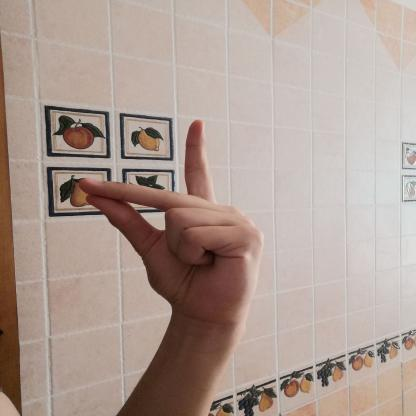TAA: (64, 111, 281, 331)
